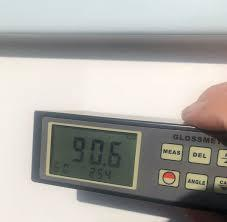1: (87, 136, 106, 167)
7: (106, 138, 125, 171)
:: (69, 129, 86, 168)
